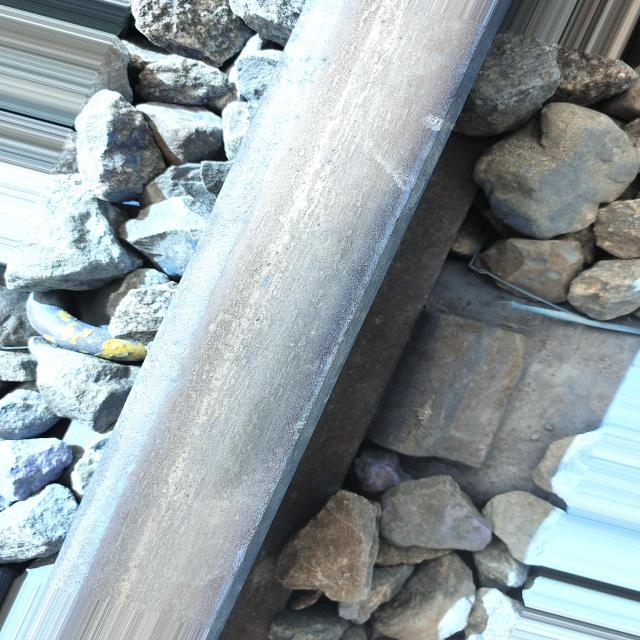Good Fasteners: (26, 293, 146, 361)
Missing Fastener: (364, 268, 591, 491)
